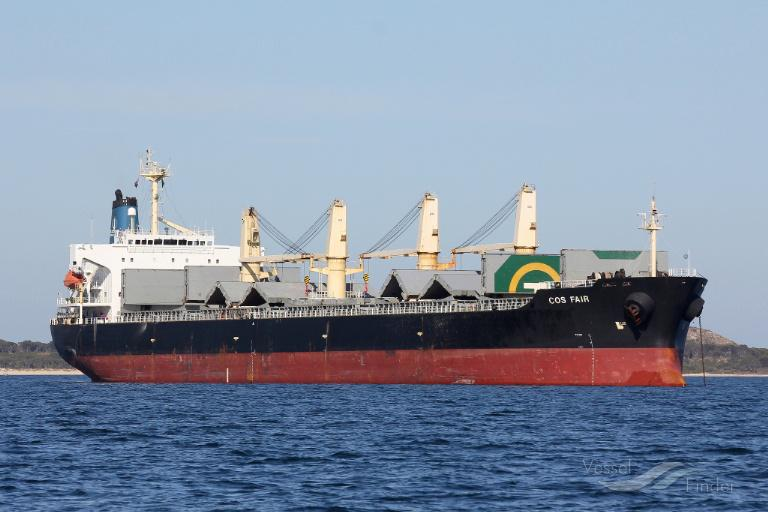OCR: (543, 292, 592, 306)
